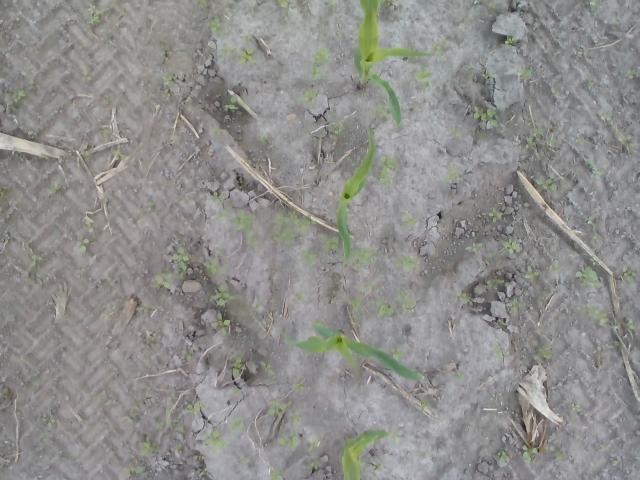Maize: (352, 0, 434, 128), (283, 320, 427, 389), (334, 127, 376, 260), (340, 429, 390, 480)
Weeds: (271, 206, 317, 248), (150, 243, 190, 290), (350, 282, 395, 320), (207, 247, 235, 307), (214, 207, 256, 232), (574, 254, 602, 289), (214, 44, 257, 66), (86, 2, 111, 32), (378, 154, 400, 188), (576, 302, 610, 324), (344, 246, 374, 270), (472, 107, 500, 131), (310, 47, 330, 80), (4, 86, 26, 114), (526, 128, 560, 146), (270, 430, 300, 450), (38, 414, 58, 442), (206, 430, 228, 455), (210, 310, 232, 334), (158, 419, 187, 437), (533, 174, 558, 193), (400, 289, 418, 314), (319, 230, 339, 252), (442, 164, 464, 184), (620, 265, 638, 289), (500, 236, 522, 255), (206, 14, 224, 37), (585, 158, 608, 176), (307, 439, 320, 470), (296, 88, 316, 108), (429, 34, 447, 56), (23, 271, 47, 287), (413, 69, 432, 88), (598, 110, 618, 128), (531, 346, 553, 362), (138, 439, 158, 456), (375, 103, 395, 120), (516, 65, 536, 82), (389, 346, 410, 362), (511, 296, 529, 314), (232, 352, 244, 379), (520, 444, 536, 464), (266, 399, 284, 416), (183, 400, 202, 416), (28, 248, 42, 269), (230, 416, 248, 432), (222, 96, 240, 112), (487, 206, 503, 224), (524, 264, 540, 281), (302, 248, 318, 265), (620, 318, 637, 334), (127, 463, 146, 477), (396, 255, 416, 268), (80, 216, 96, 232), (400, 212, 418, 226), (136, 304, 162, 313), (495, 449, 510, 464), (368, 456, 384, 470), (493, 343, 506, 360), (446, 127, 466, 138), (620, 134, 632, 152), (457, 289, 471, 304), (112, 145, 126, 160), (75, 239, 89, 253), (258, 360, 272, 374), (0, 185, 12, 201), (246, 233, 258, 249), (160, 72, 176, 84), (208, 190, 222, 203), (486, 278, 504, 288), (606, 341, 622, 352), (477, 0, 496, 9), (416, 400, 428, 414), (464, 242, 480, 252), (176, 350, 192, 360), (143, 199, 155, 212), (332, 123, 344, 136), (270, 469, 284, 480), (504, 35, 519, 45), (126, 414, 142, 423), (589, 0, 601, 12), (289, 383, 305, 392), (549, 260, 560, 273), (80, 151, 94, 161), (160, 50, 169, 64), (624, 68, 635, 79), (291, 415, 302, 426), (160, 88, 172, 98), (241, 33, 254, 42), (394, 432, 401, 448), (193, 454, 204, 464), (27, 78, 37, 89), (571, 403, 583, 412), (239, 456, 252, 464), (259, 136, 269, 146), (484, 71, 494, 81), (582, 80, 592, 90), (326, 375, 336, 385), (80, 72, 92, 80), (296, 292, 305, 302), (199, 0, 209, 9), (111, 302, 120, 312), (0, 388, 8, 399), (610, 16, 621, 24), (463, 64, 474, 72), (554, 448, 560, 462), (584, 215, 593, 224), (278, 0, 288, 8), (455, 373, 465, 381), (211, 128, 222, 135), (576, 136, 584, 145), (606, 276, 612, 288), (482, 255, 492, 262), (104, 96, 112, 104), (368, 475, 380, 480)
